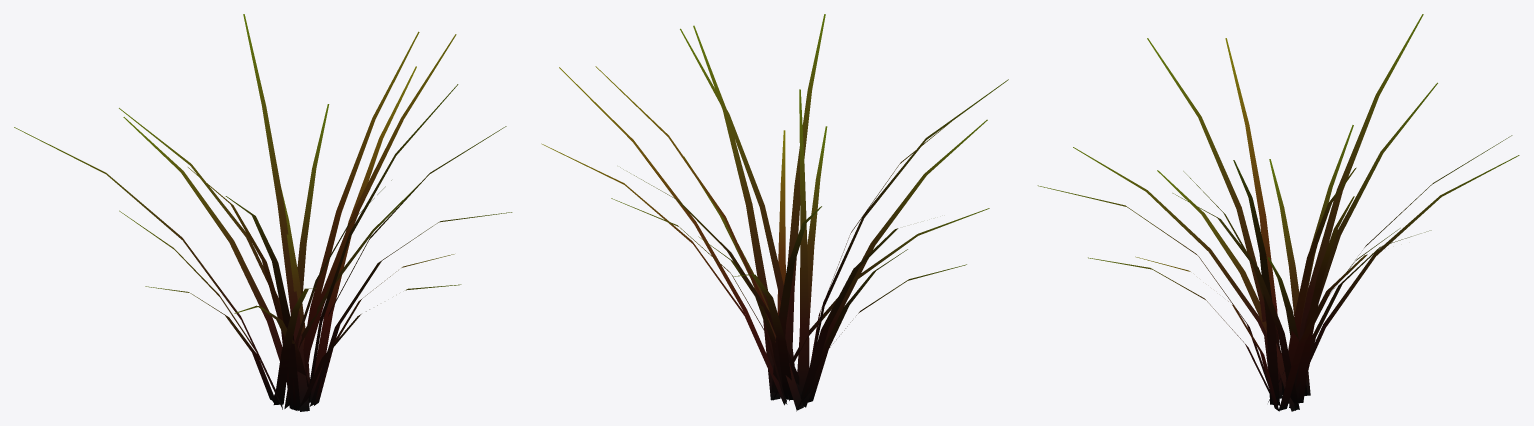
File: tall_grass_c.glb
3 views of the same model, side by side, from view 1: azimuth 30°, elevation 25°; view 2: azimuth 150°, elevation 25°; view 3: azimuth 270°, elevation 25° (orthographic). The views are drawn at different scales.
Parts seen in each view (by area): view 1: tall_grass_c; view 2: tall_grass_c; view 3: tall_grass_c.
Boxes of the visible parts, box(x1,y1,x2,y2) form: tall_grass_c: box(14, 14, 512, 411); tall_grass_c: box(541, 14, 1008, 411); tall_grass_c: box(1037, 14, 1519, 411).
Bounding box in the file's own units: 2.33 × 1.69 × 2.36.
Materials: 1 (1 with a texture image).
